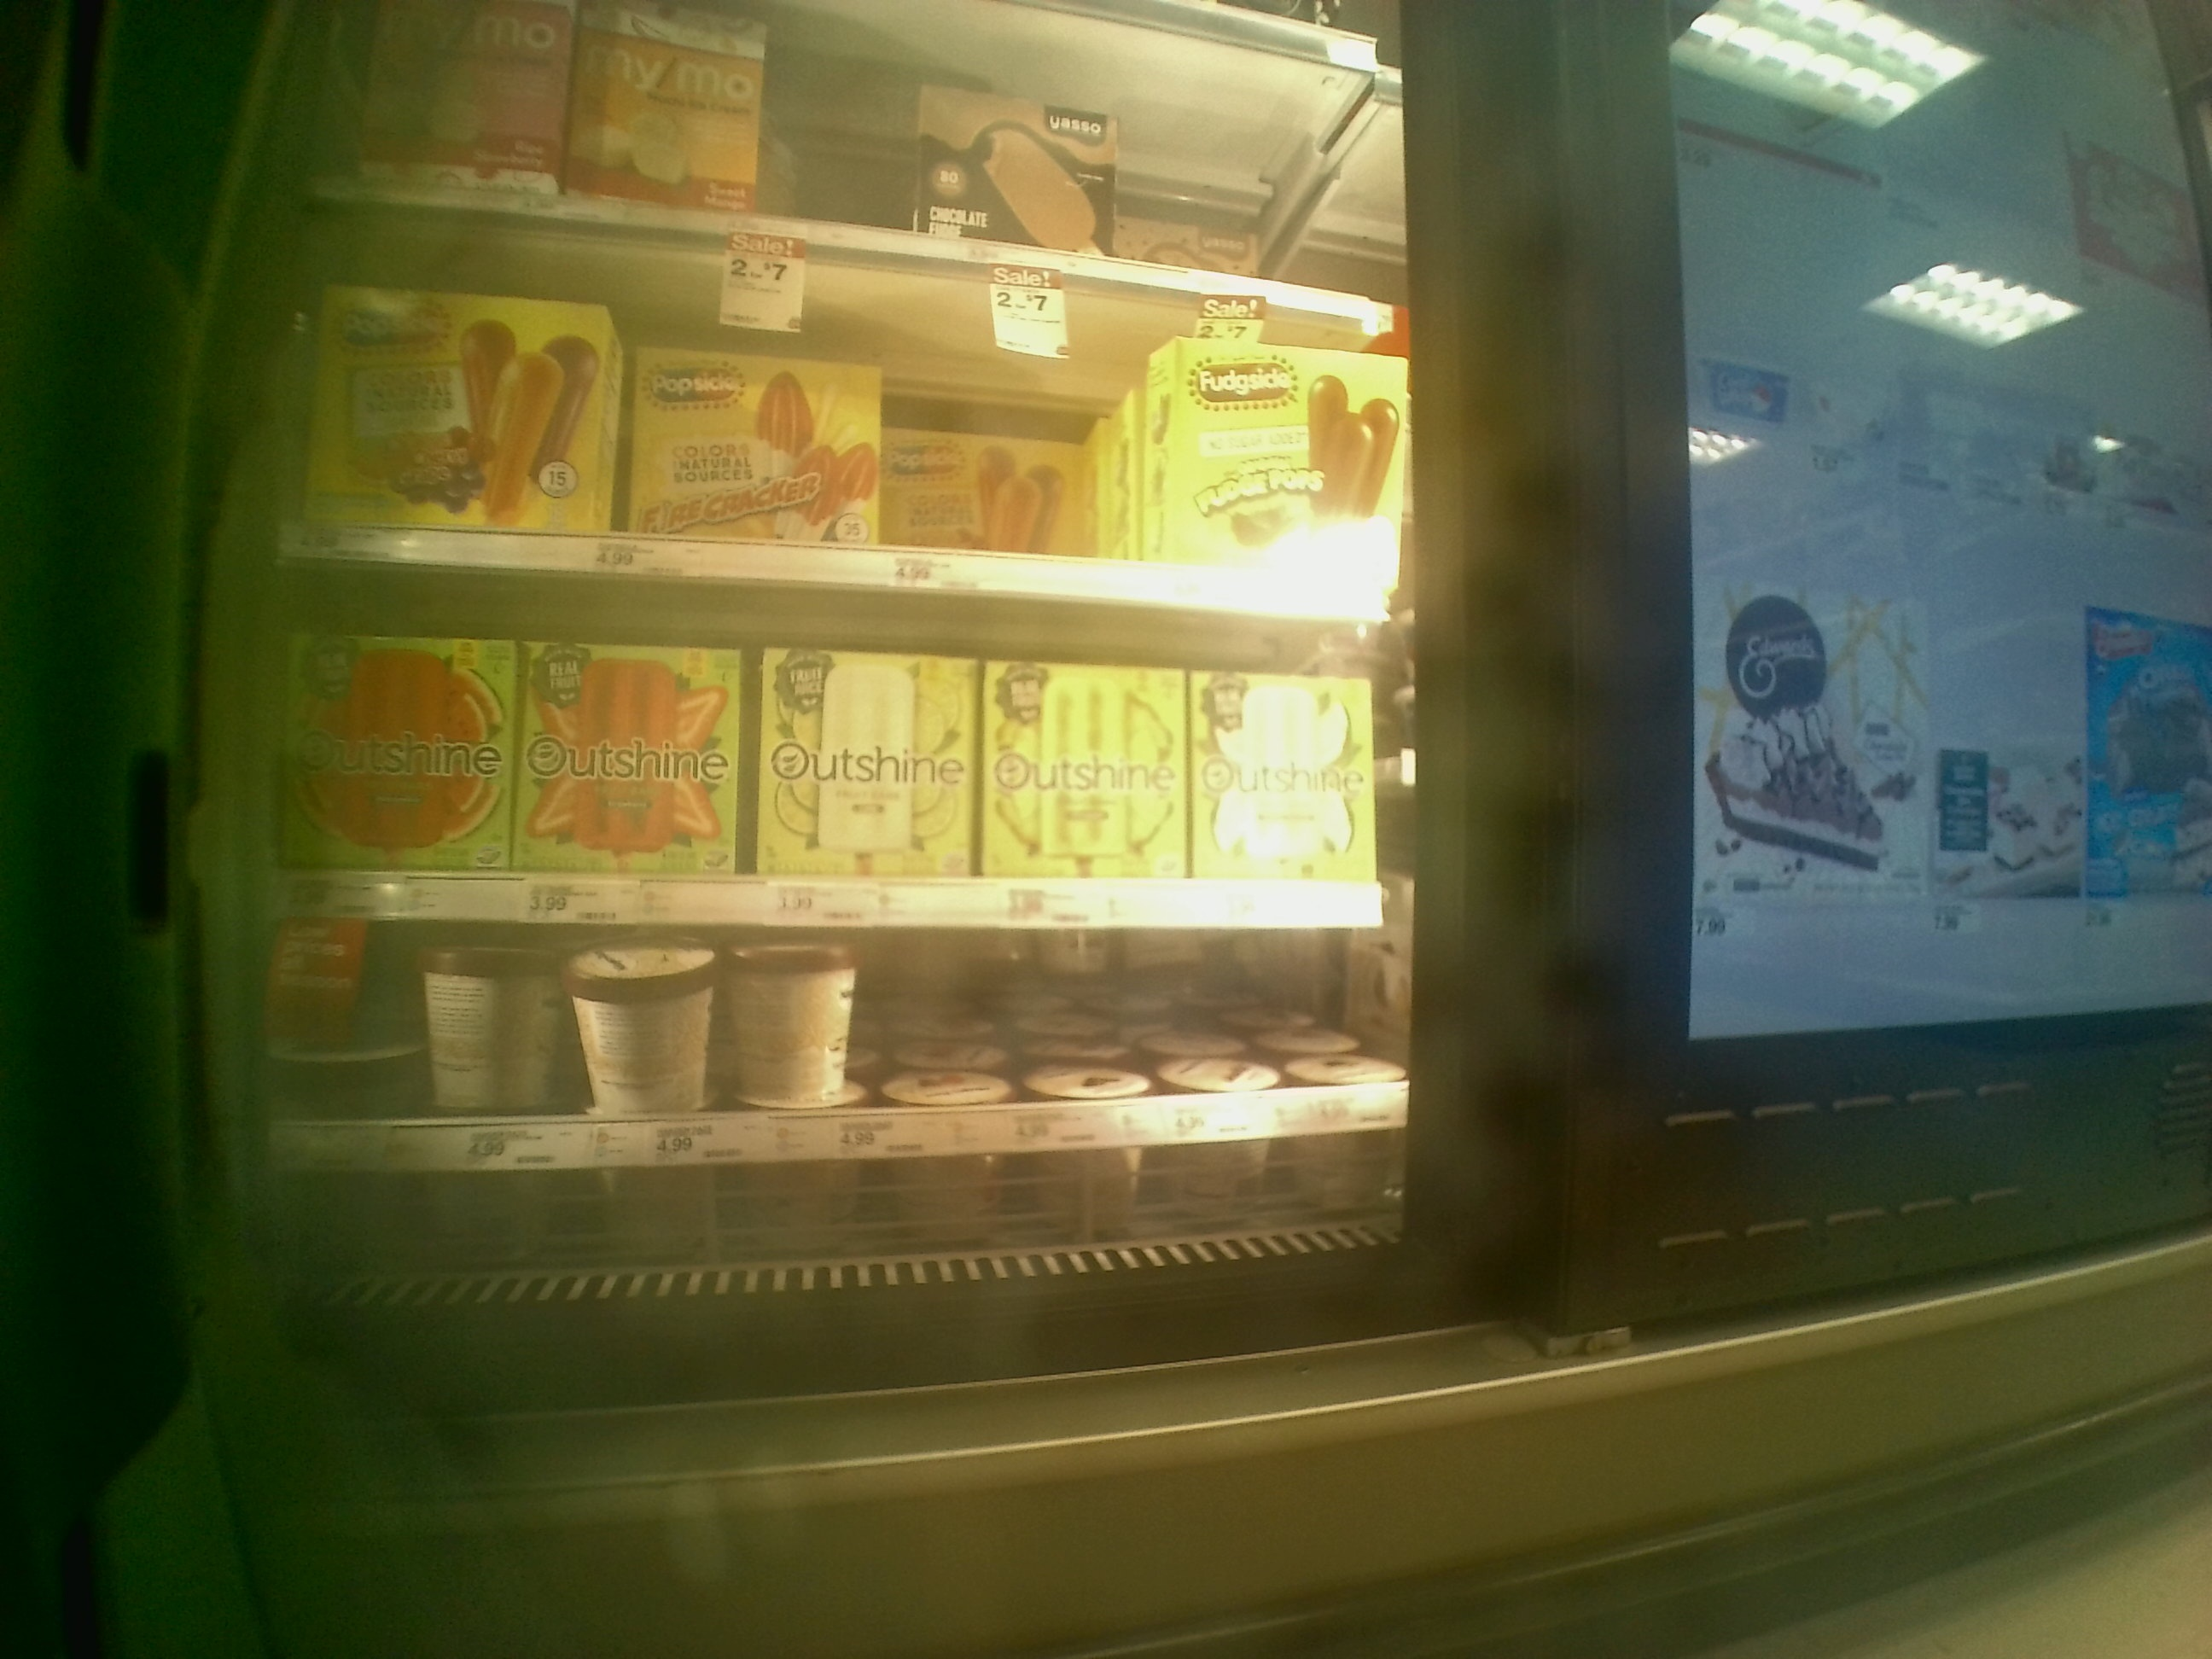shelf: (301, 244, 1392, 612), (291, 922, 1418, 1270), (273, 610, 1406, 929)
